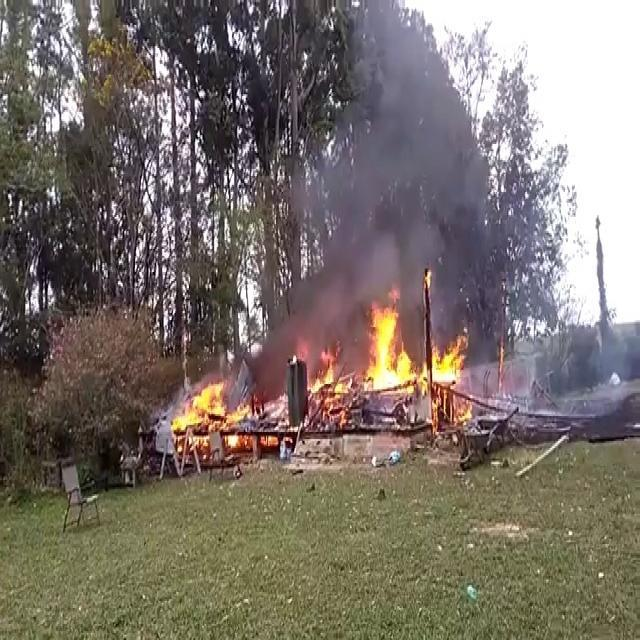Fire: (357, 289, 418, 392), (166, 365, 234, 456), (412, 326, 471, 402), (312, 338, 348, 404)
Smoke: (248, 1, 536, 339)
